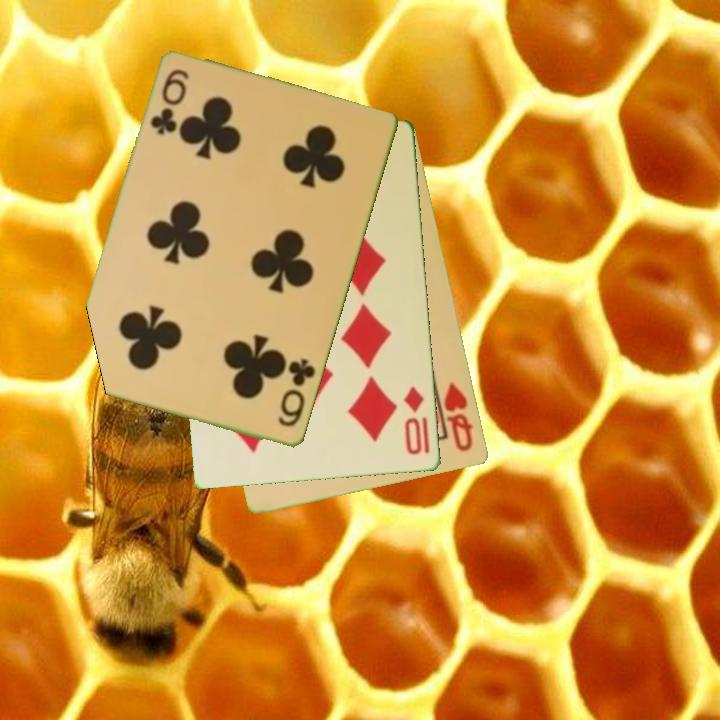10d: (400, 383, 427, 458)
6c: (274, 355, 319, 431), (146, 66, 192, 138)
Qh: (440, 379, 476, 455)
